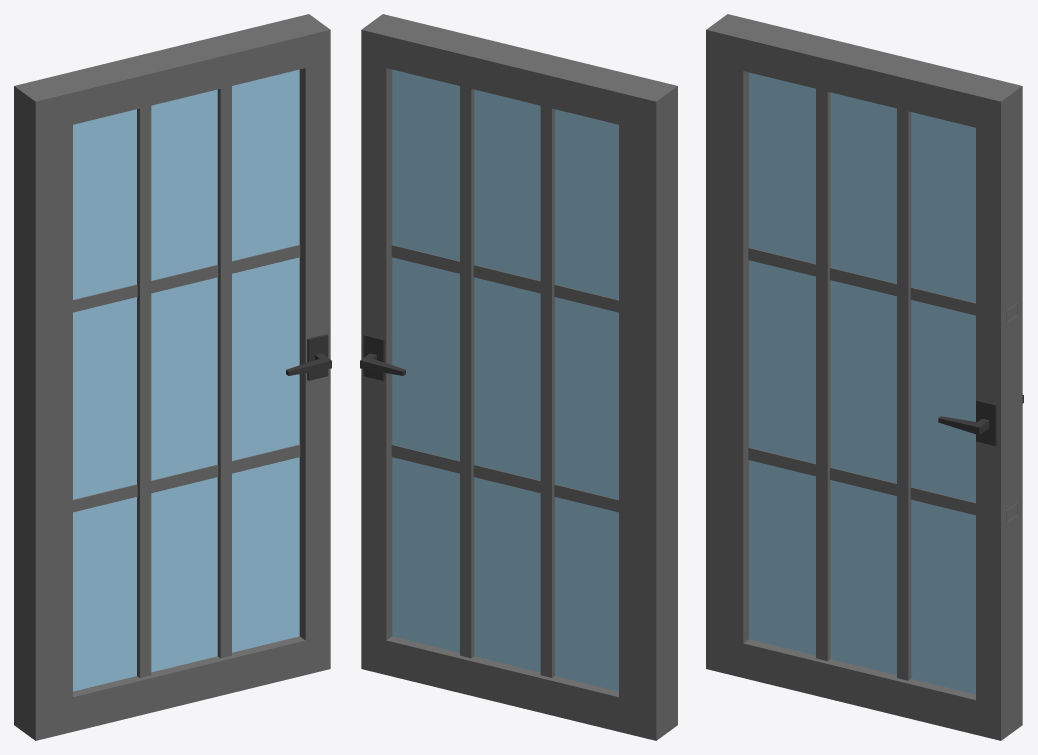
The model's file is door_011.glb.
3 renders of one model, left to right at view 1: azimuth 30°, elevation 25°; view 2: azimuth 150°, elevation 25°; view 3: azimuth 330°, elevation 25°, orthographic.
Visible parts, largest first — view 1: door_011; view 2: door_011; view 3: door_011.
Boxes of the visible parts, box(x1,y1,x2,y2) form: door_011: box(14, 14, 331, 740); door_011: box(360, 14, 677, 740); door_011: box(706, 14, 1023, 740).
Bounding box in the file's own units: 1.1 × 2.27 × 0.2859.
1 material, 1 textured.
